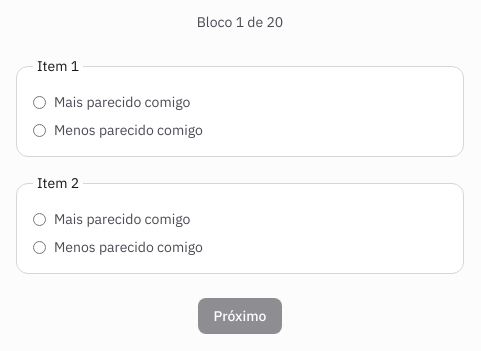
AssessmentPage › desabilita o botao proximo ate mais e menos estarem escolhidos, em itens diferentes
The width and height of the screenshot is (481, 351).
Expected: the text "Item 1" is shown, 37,57 -> 79,75
Expected: the button "Próximo" is disabled, 198,298 -> 282,334
Click the radio button with aria-label "Item 1 — Mais parecido comigo" at (40, 102), box 33,96 -> 46,108
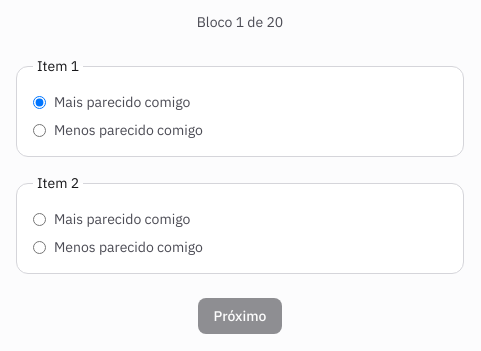
Expected: the button "Próximo" is disabled, 198,298 -> 282,334
Click the radio button with aria-label "Item 2 — Menos parecido comigo" at (40, 247), box 33,240 -> 46,254
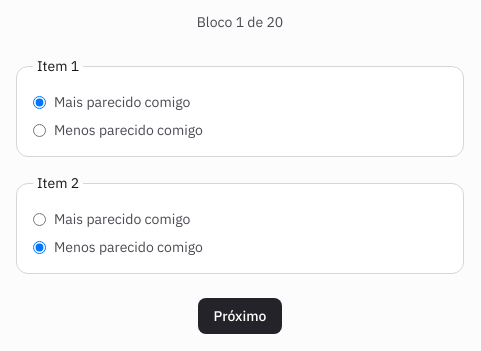
Now the button "Próximo" is enabled, box 198,298 -> 282,334
